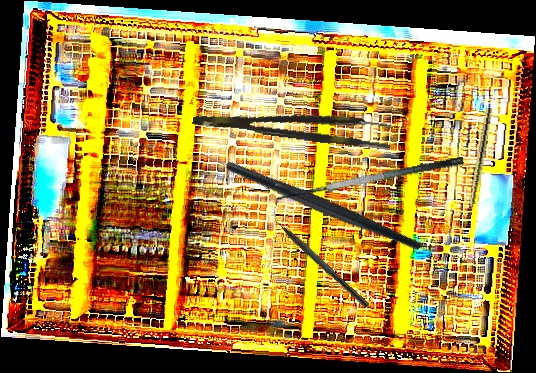Chopper: (183, 85, 425, 321), (265, 206, 376, 309)
Handpiece: (463, 107, 494, 226)
Spatula Surgical: (273, 154, 467, 215)
Tissue Forceps: (191, 97, 394, 152)
